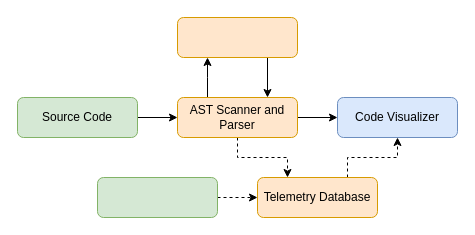
The diagram is 475 pixels wide and 235 high, and some of its shapes have lost their labels. The shapes that lost their labels are listed below. From the top down, each one's centre as x and y in pixels, then its label:
At pixel 237 37: "LLM Code Partitioning".
At pixel 157 197: "Production Instance".
